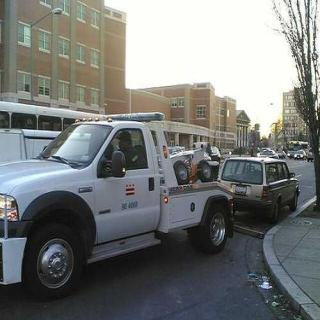Towing_truck: (0, 109, 236, 300)
